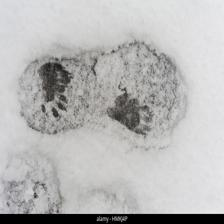raccoon: (103, 95, 154, 138)
